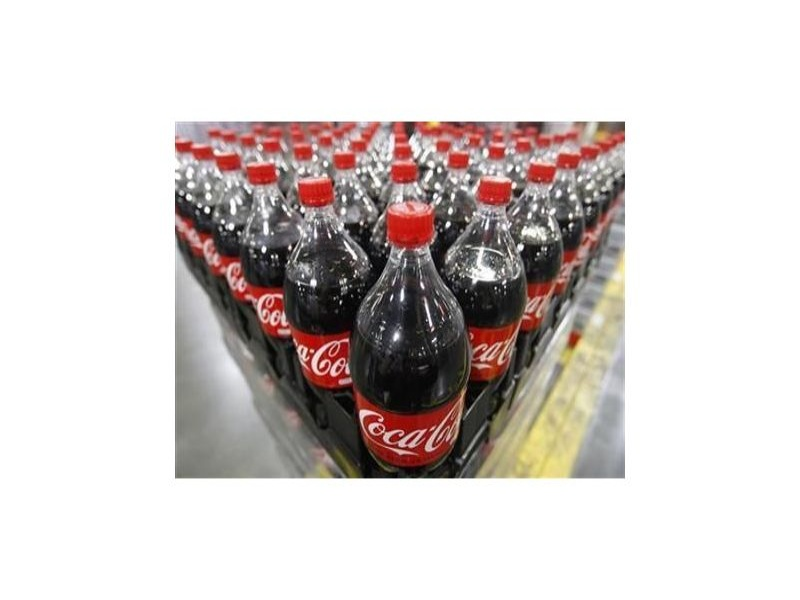Plastic bottle: (338, 203, 480, 474), (433, 167, 548, 427), (271, 169, 376, 436), (219, 159, 316, 386), (193, 161, 273, 351), (501, 143, 577, 340)
